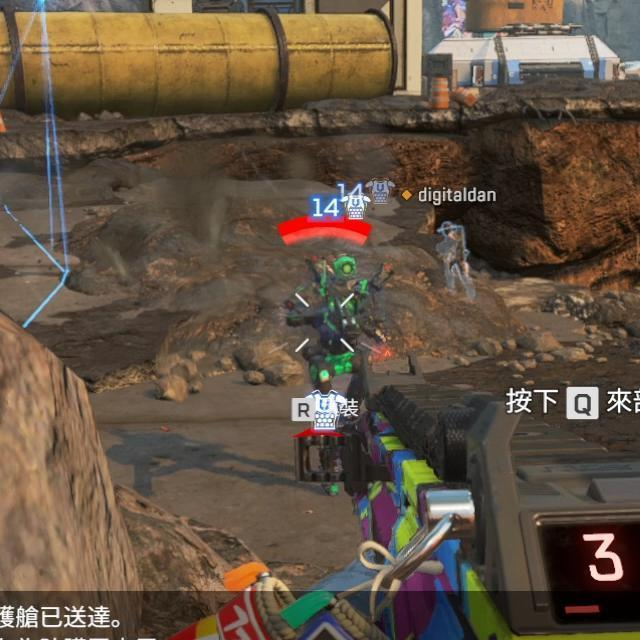avatar: (284, 254, 387, 392)
